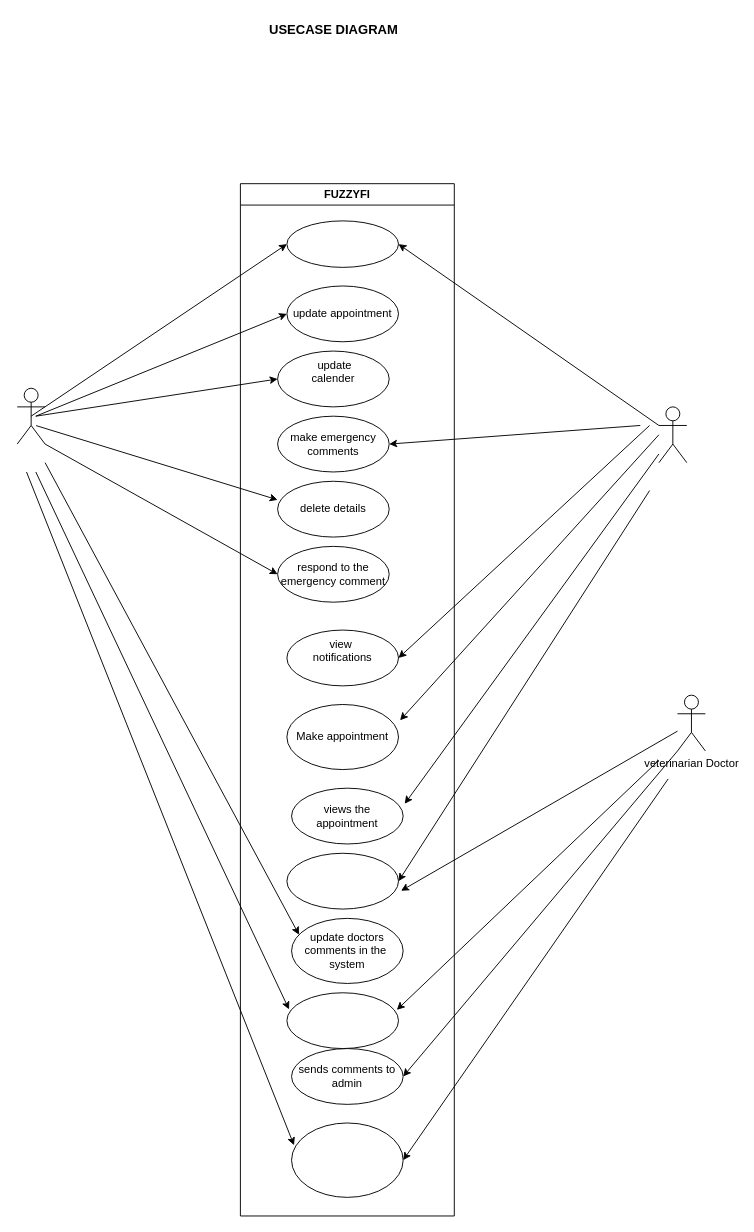
The diagram is 754 pixels wide and 1232 high, and some of its shapes have lost their labels. Each missing label, with the box of its shape:
accepts appointments: (286, 992, 399, 1049)
admin: (16, 387, 45, 444)
login: (286, 220, 399, 267)
Pet owner: (658, 406, 687, 463)
sets date of appointment: (291, 1122, 403, 1197)
view calender: (286, 852, 399, 909)
